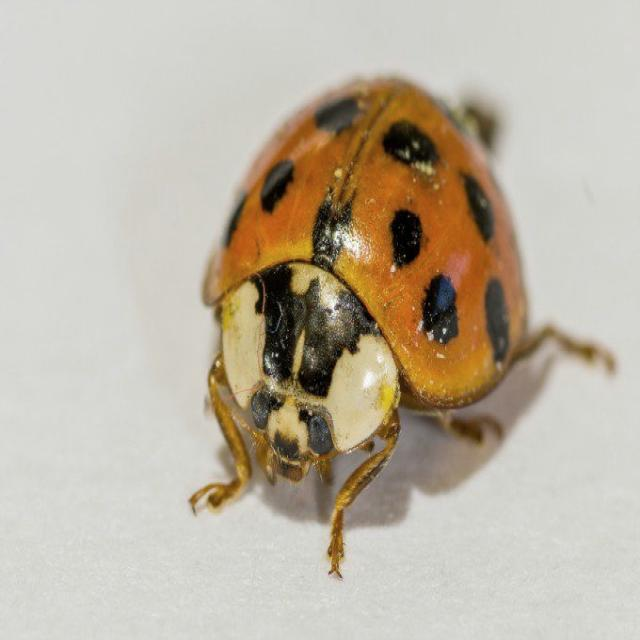ladybug: (191, 78, 614, 575)
